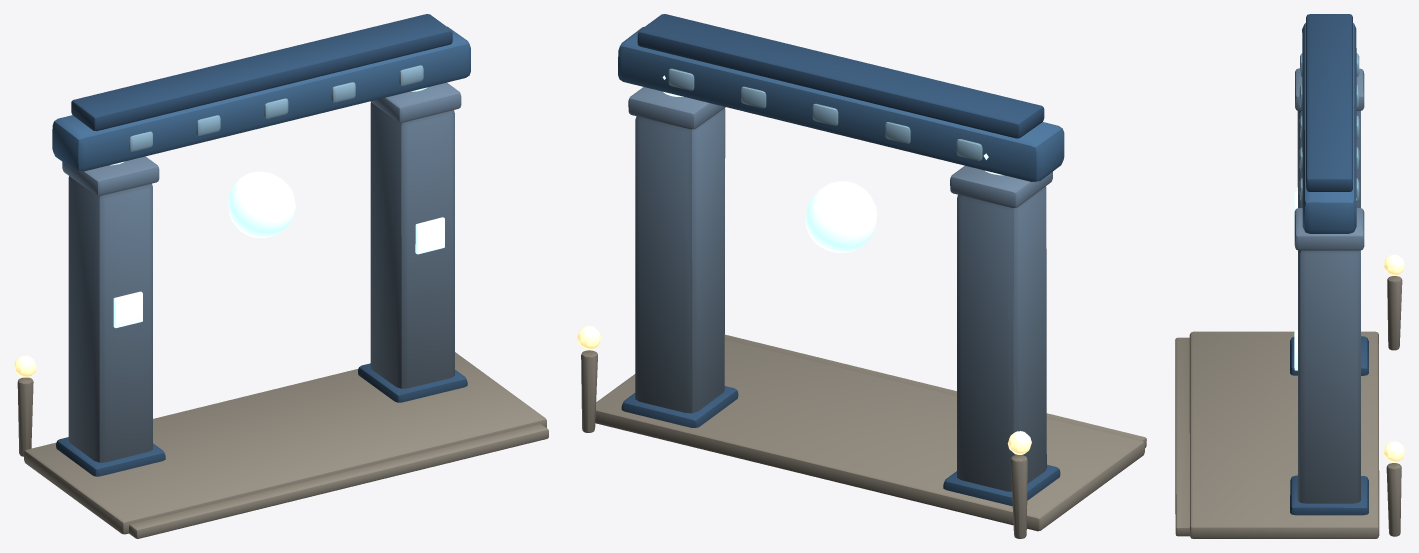
3 renders of one model, left to right at view 1: azimuth 30°, elevation 25°; view 2: azimuth 150°, elevation 25°; view 3: azimuth 270°, elevation 25°, orthographic. The views are drawn at different scales.
Visible parts, largest first — view 1: gate_97b625fd; view 2: gate_97b625fd; view 3: gate_97b625fd.
Boxes of the visible parts, bbox=[...] form: gate_97b625fd: bbox=[14, 14, 548, 538]; gate_97b625fd: bbox=[577, 14, 1146, 538]; gate_97b625fd: bbox=[1175, 14, 1404, 538].
Size of the model in its own units: 5.16 by 4.25 by 2.54.
